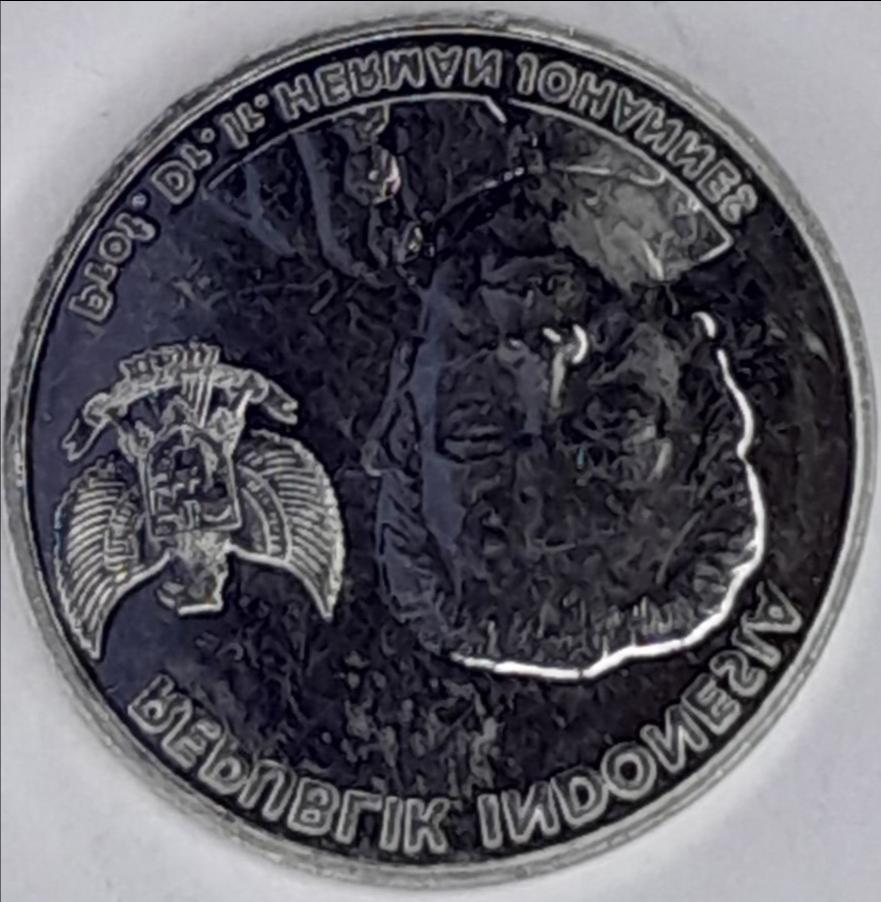coin_100_e2016: (1, 3, 879, 886)
